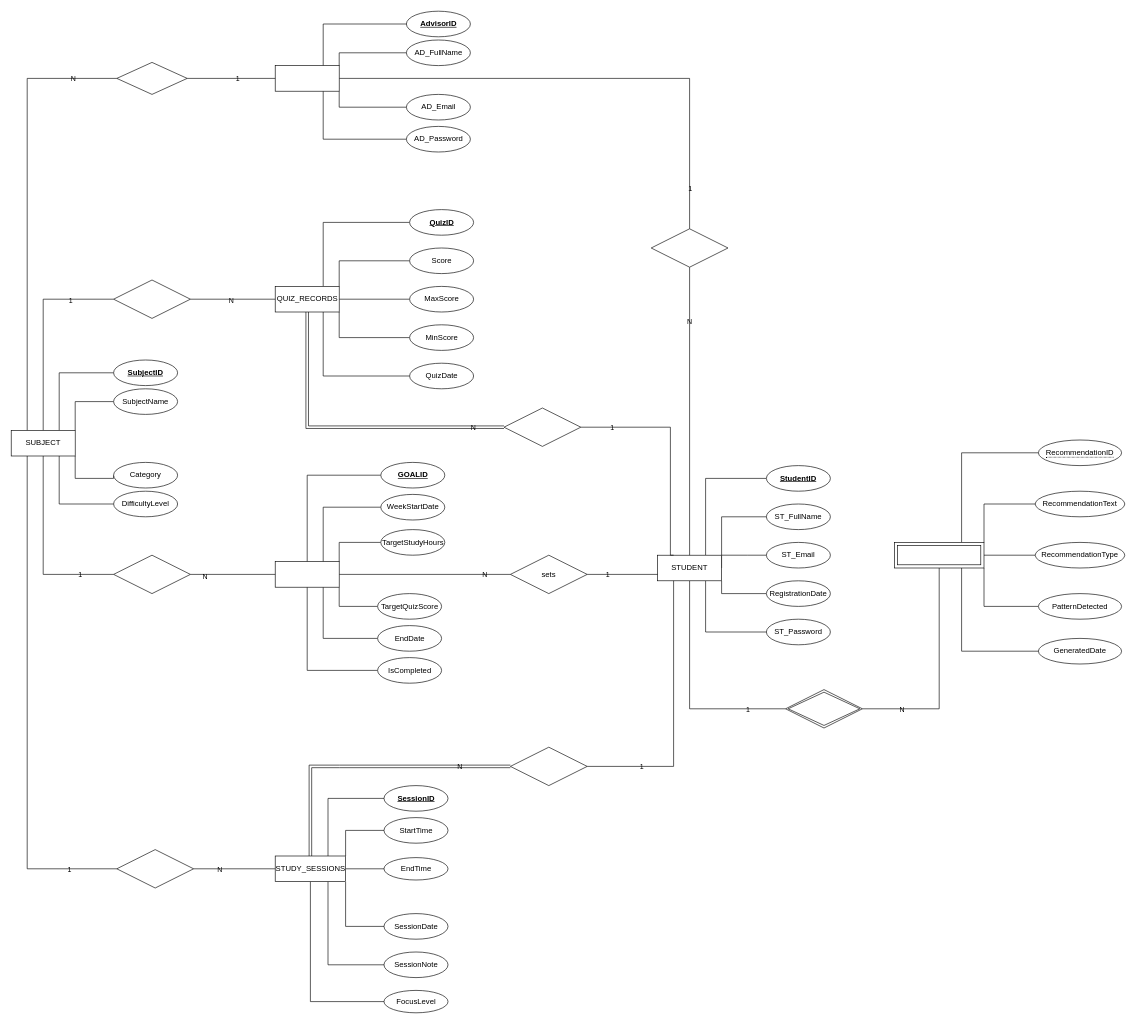
Some shapes in this 1136 by 1024 pixel diagram are drawn without their labels. Here are the shapes that lost their labels. From the top down, the centre of each, then its label:
the point at 151,78: creates
the point at 307,78: ADVISOR
the point at 689,247: advises
the point at 151,298: includes
the point at 542,426: takes
the point at 151,574: for
the point at 307,574: GOALS
the point at 939,555: INSIGHT_RECORDS
the point at 823,708: receives
the point at 548,766: logs
the point at 155,868: has
